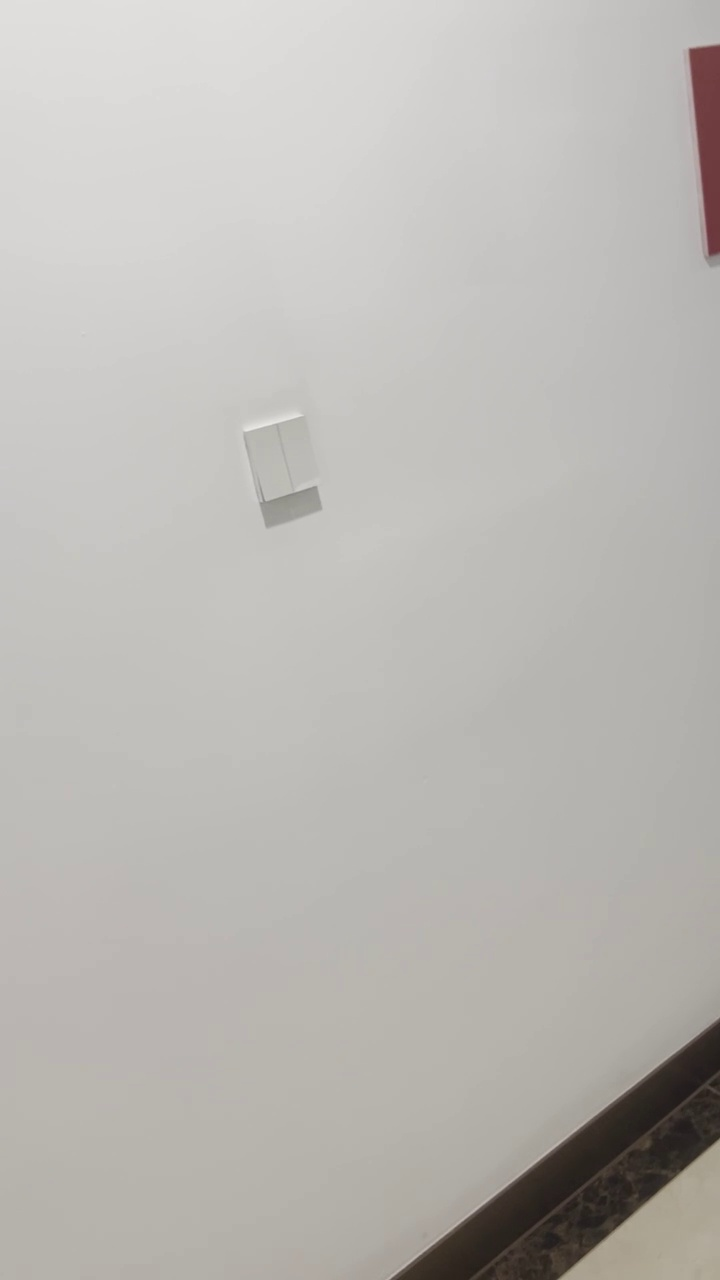button: (238, 408, 322, 507)
